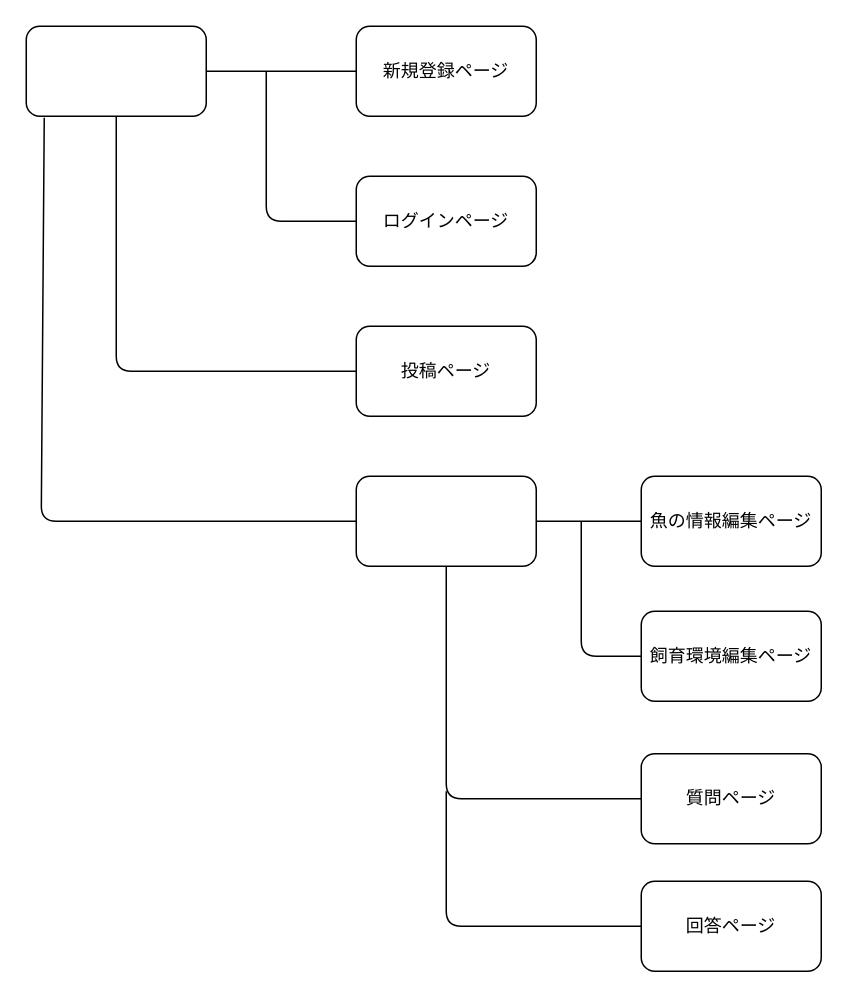
Image size: 848x998. Some labels were removed from this diagram. Here are the shapes that lost their labels. From the top down, the box of each, then its label:
(25, 25, 206, 116): 一覧ページ
(355, 475, 536, 566): 詳細ページ
